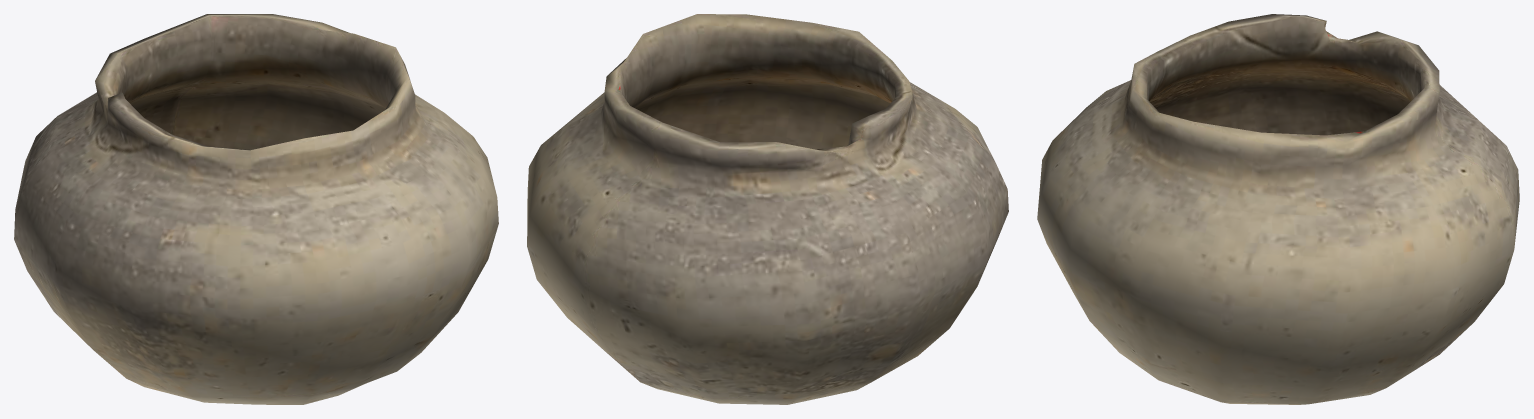
File: antiquity5_52.fbx
The picture shows the model from 3 angles, left to right: view 1: azimuth 30°, elevation 25°; view 2: azimuth 150°, elevation 25°; view 3: azimuth 270°, elevation 25°; orthographic projection.
Parts seen in each view (by area): view 1: 0566_T; view 2: 0566_T; view 3: 0566_T.
Part boxes in pixels (x1,y1,x2,y2): 0566_T: [14, 14, 498, 404]; 0566_T: [527, 14, 1008, 404]; 0566_T: [1037, 14, 1519, 404].
Size of the model in its own units: 37.57 by 24.72 by 37.51.
Materials: 1 (1 with a texture image).
